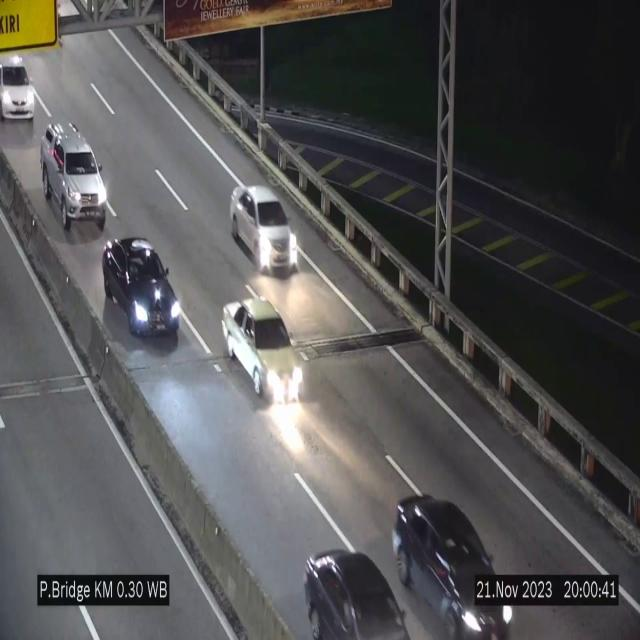Car: (388, 481, 518, 640), (290, 541, 412, 640), (222, 296, 308, 415), (103, 237, 181, 343), (40, 121, 106, 235), (230, 186, 300, 272), (0, 46, 41, 132)
